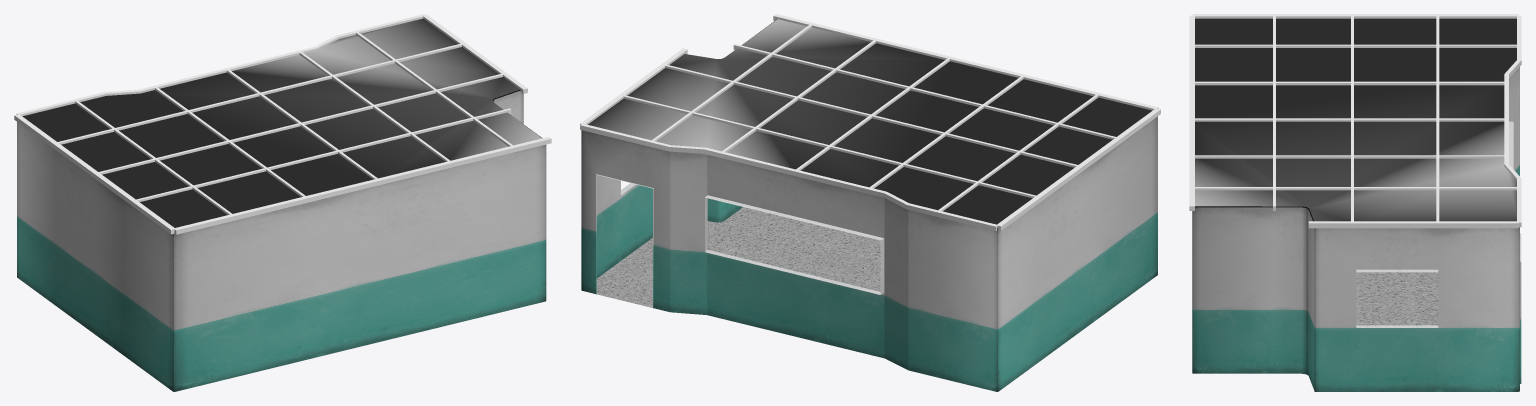
Rendered from room_02_fbx.fbx.
3 renders of one model, left to right at view 1: azimuth 30°, elevation 25°; view 2: azimuth 150°, elevation 25°; view 3: azimuth 270°, elevation 25°, orthographic. The views are drawn at different scales.
Parts seen in each view (by area): view 1: room_02_tr; view 2: room_02_tr; view 3: room_02_tr.
Boxes of the visible parts, bbox=[...] form: room_02_tr: bbox=[14, 14, 551, 391]; room_02_tr: bbox=[580, 14, 1160, 391]; room_02_tr: bbox=[1189, 14, 1521, 391].
Size of the model in its own units: 321 by 120 by 213.
